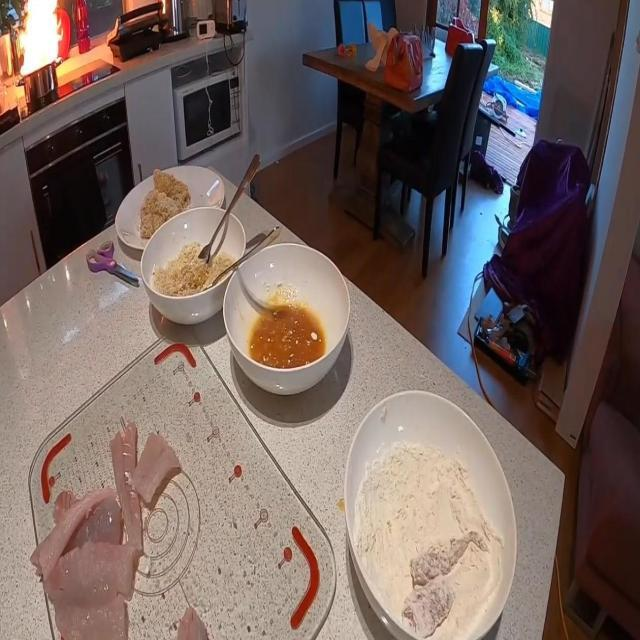smoke: (17, 0, 68, 78)
